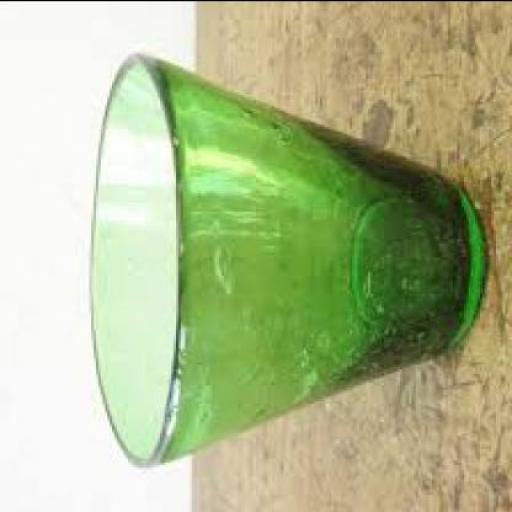glass: (89, 58, 487, 468)
